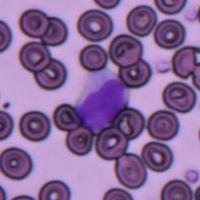M: (74, 70, 130, 133)
